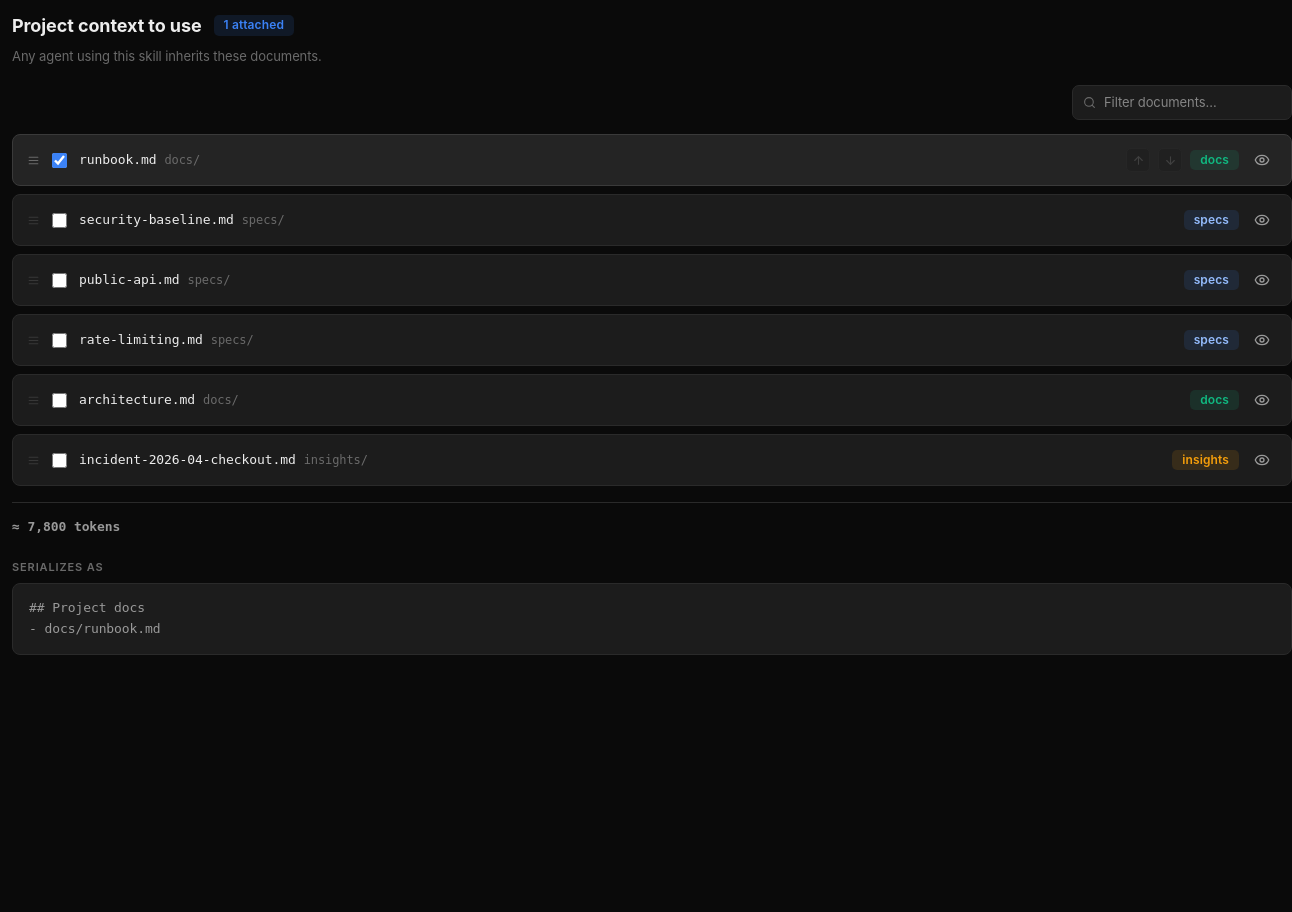
Scenario: Skill Context tab — token sum › warns once the attached documents pass the token budget
The width and height of the screenshot is (1292, 912).
Expected: the text "over the 8,000-token budget" is not shown
Click the checkbox named "Attach docs/architecture.md".
click(60, 400)  # box [52,392,67,408]
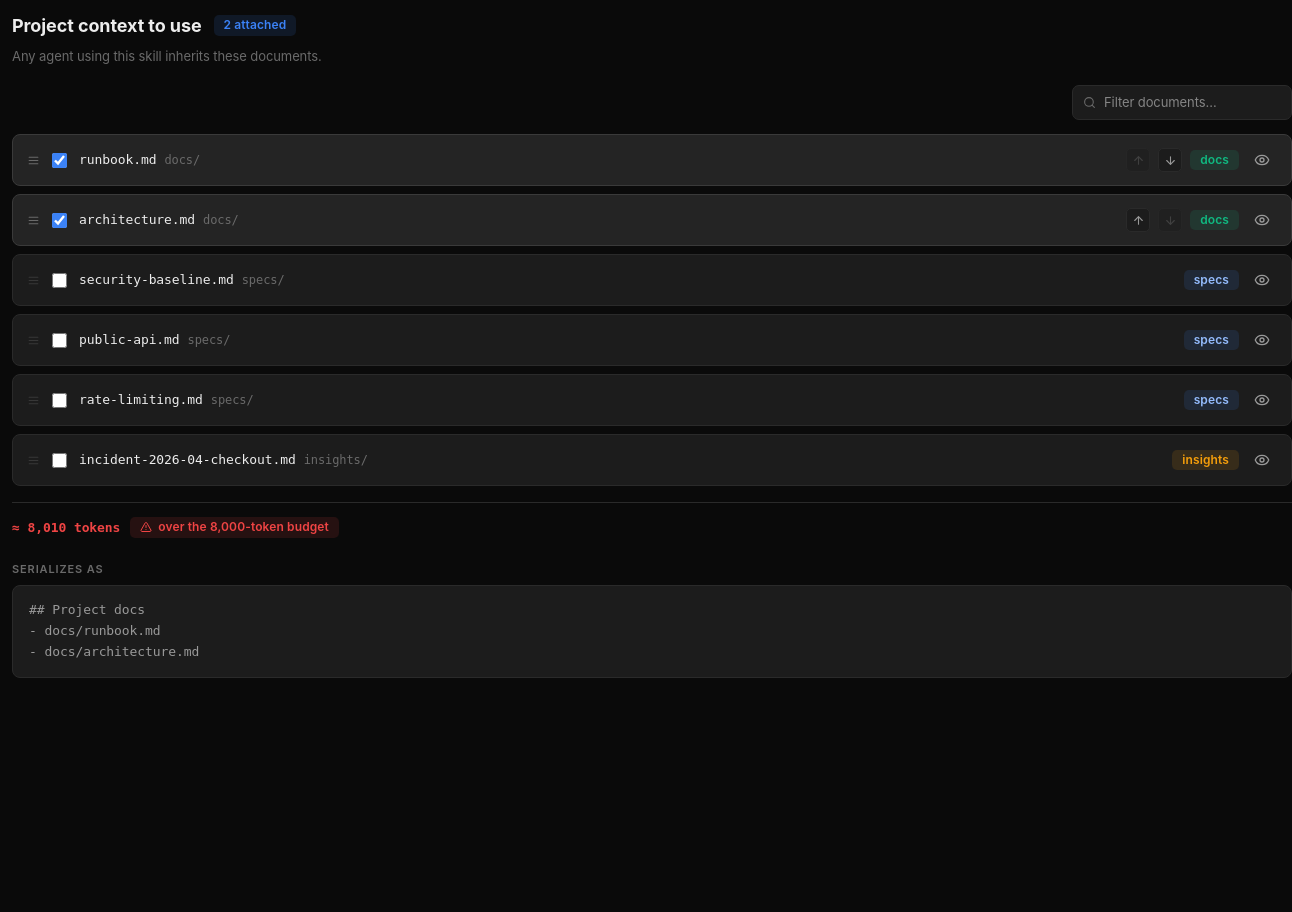
Expected: the text "≈ 8,010 tokens" is shown, [12,518,120,538]
Expected: the text "over the 8,000-token budget" is shown, [130,517,339,538]
